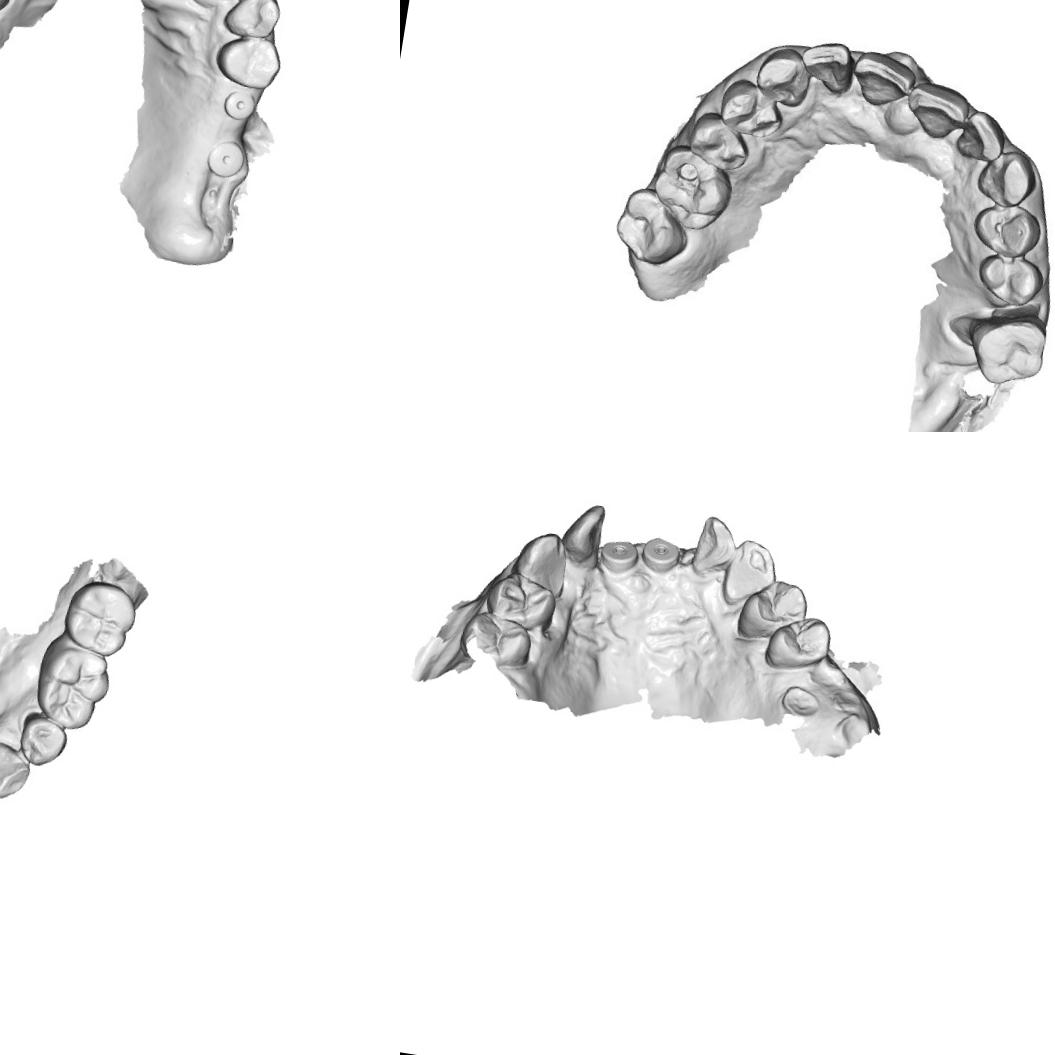canine: (716, 534, 784, 612), (508, 523, 574, 599), (755, 45, 812, 110), (975, 144, 1036, 200), (219, 0, 287, 44), (0, 740, 34, 803)
implant: (202, 136, 250, 182), (638, 530, 684, 576), (597, 535, 642, 577), (219, 84, 260, 126)
incisor: (850, 48, 917, 113), (899, 80, 969, 142), (948, 107, 1009, 169), (558, 496, 610, 566), (688, 511, 738, 582), (802, 35, 854, 92)
molar: (29, 632, 116, 734), (965, 314, 1055, 396), (59, 575, 140, 660), (655, 148, 737, 230), (610, 188, 681, 268)
premolar: (456, 604, 540, 676), (732, 572, 811, 647), (479, 566, 560, 636), (760, 608, 837, 677), (210, 31, 286, 94), (714, 76, 783, 140), (968, 208, 1040, 265), (979, 245, 1046, 305), (14, 708, 71, 770), (689, 114, 746, 173)
